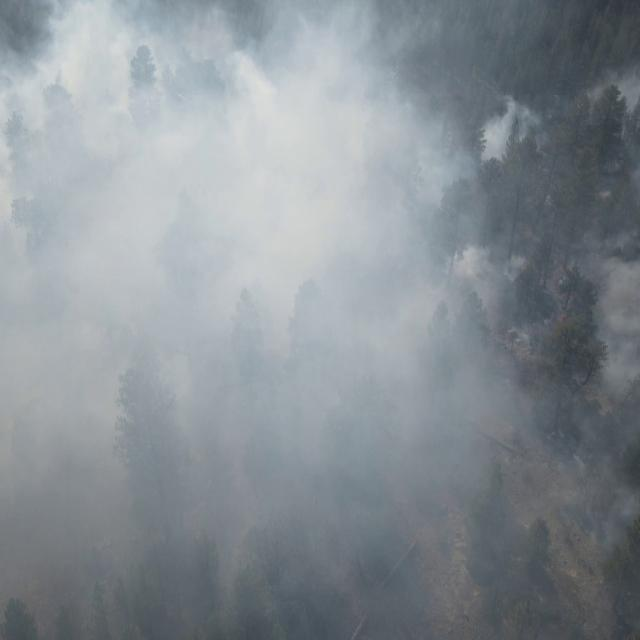fire: (550, 304, 576, 328)
smoke: (0, 0, 640, 640)
